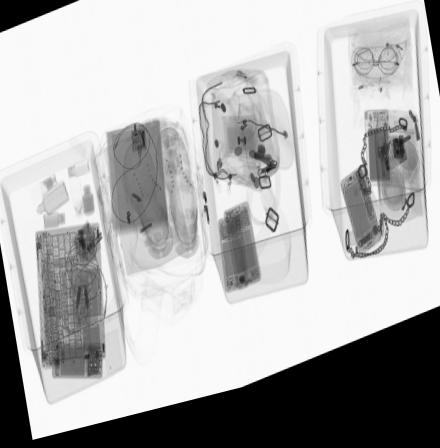Lighter: (235, 80, 258, 100)
